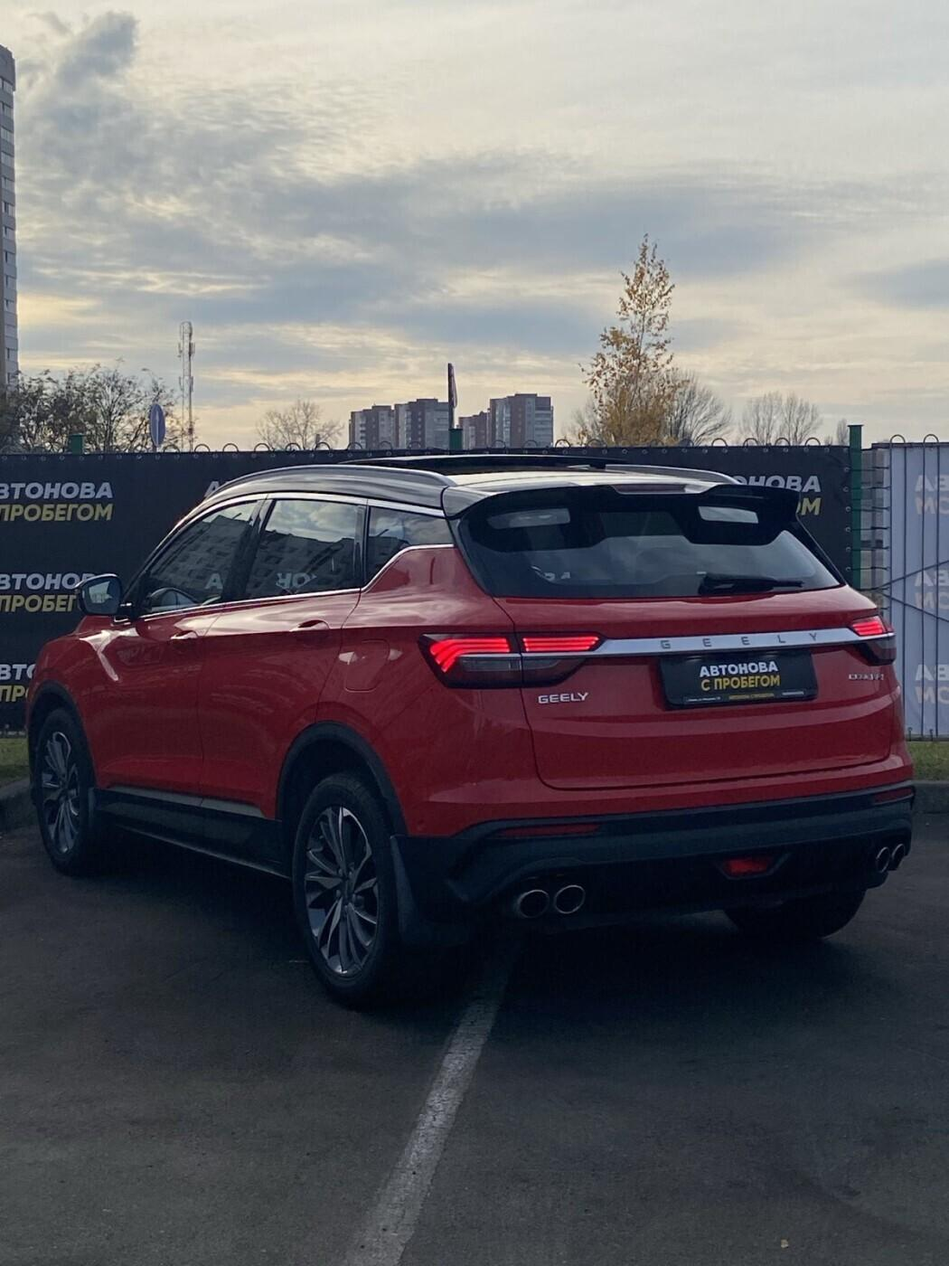Coolray_2019-2023: (23, 450, 927, 993)
